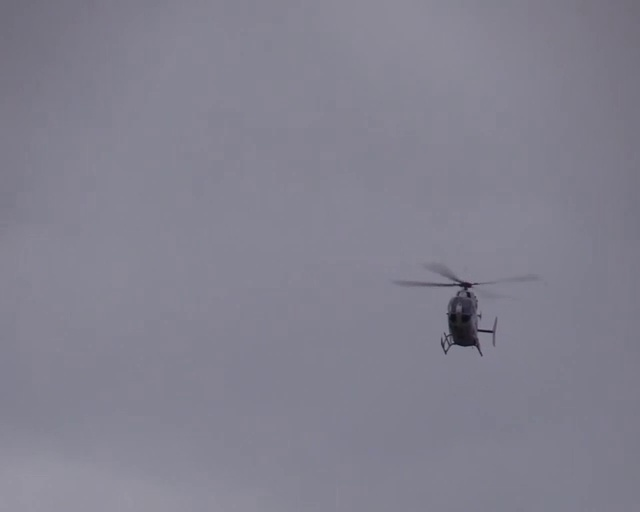HELICOPTER: (390, 258, 544, 356)
